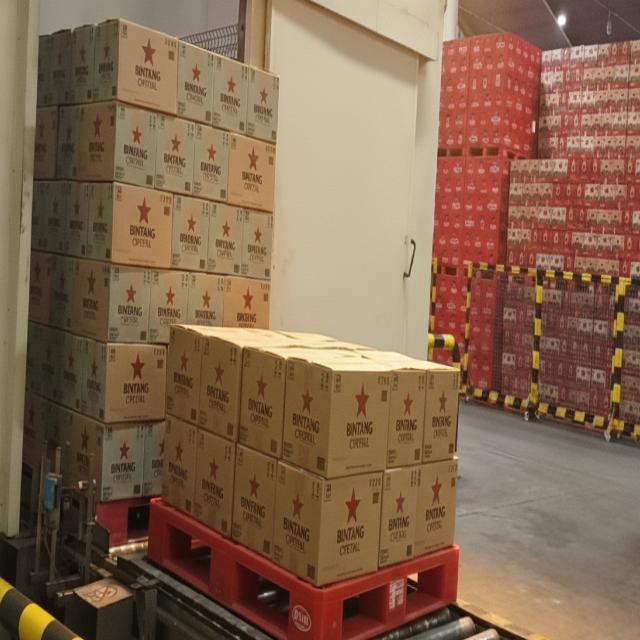pallet: (27, 17, 305, 554), (143, 307, 470, 640)
